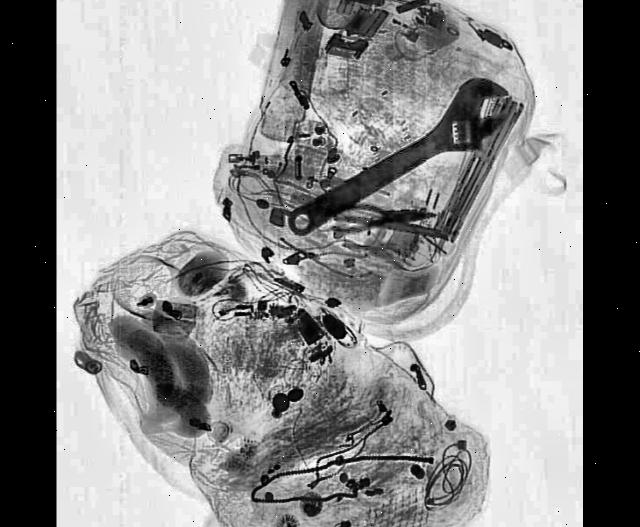Pliers: (332, 202, 435, 234)
Wrench: (278, 64, 520, 260)
